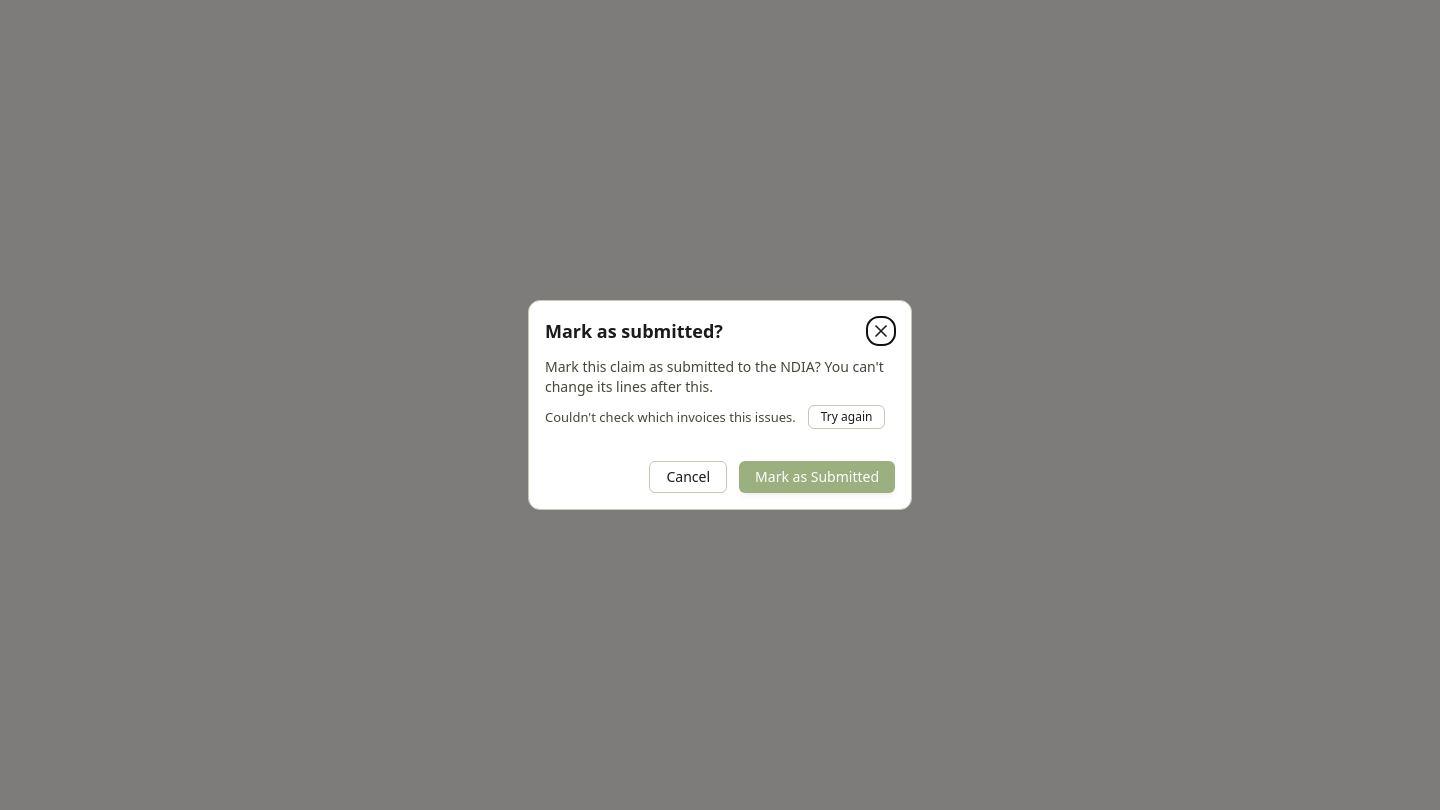
Test: SubmitClaimDialog › a failed preview says "Couldn't check…" with Try again, holds Confirm, and Try again asks again
Check: the text "Couldn't check which invoices this issues." is shown, box [545,408,796,426]
Check: the button "Mark as Submitted" is disabled, box [739,461,895,493]
Click the button "Try again" at (847, 417), box [808,405,885,429]
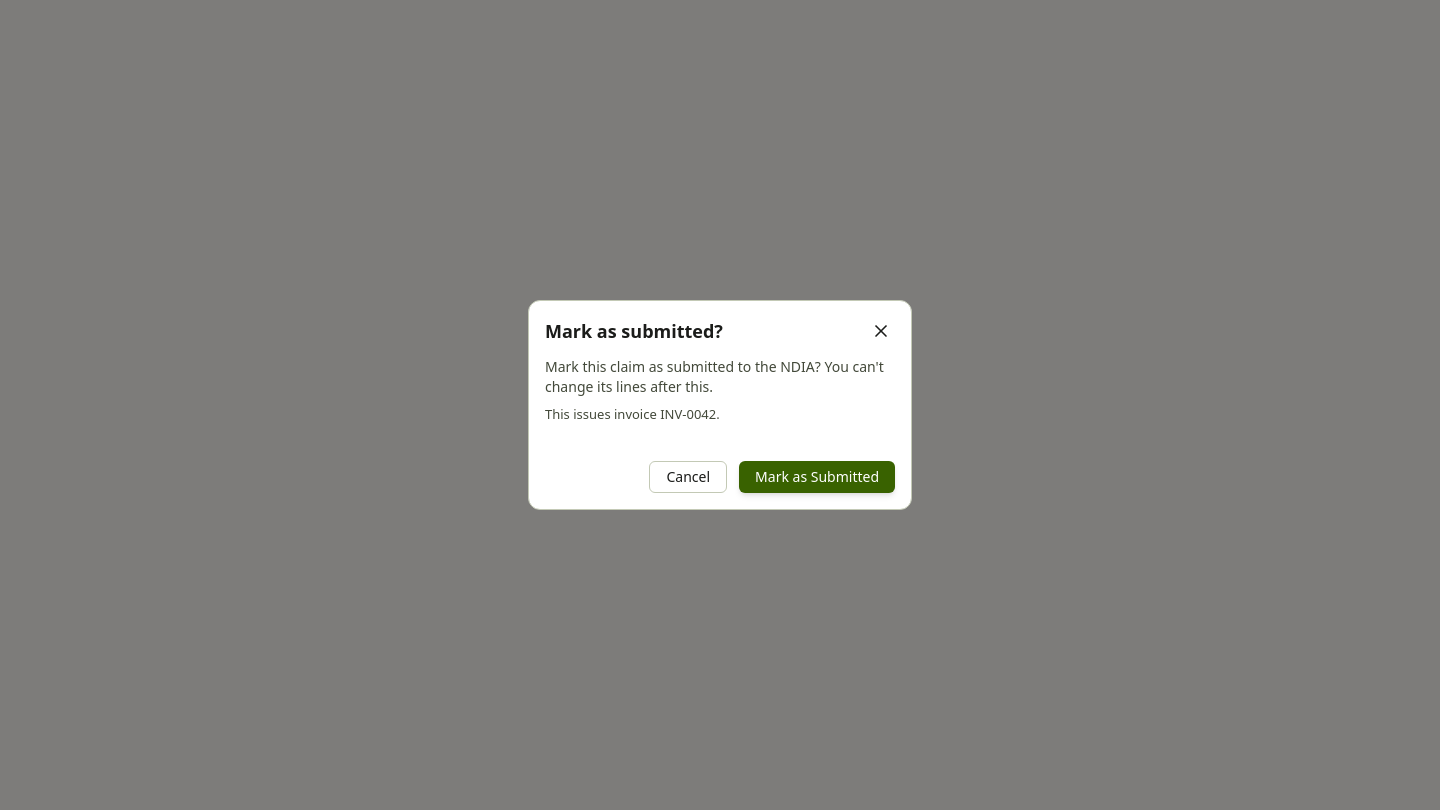
Check: the text "This issues invoice INV-0042." is shown, box [545,405,720,423]
Check: the button "Mark as Submitted" is enabled, box [739,461,895,493]
